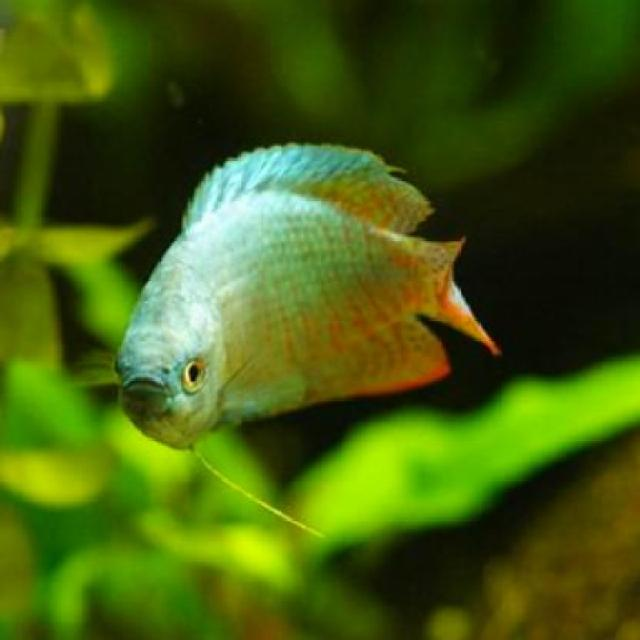Gourami: (122, 140, 506, 460)
